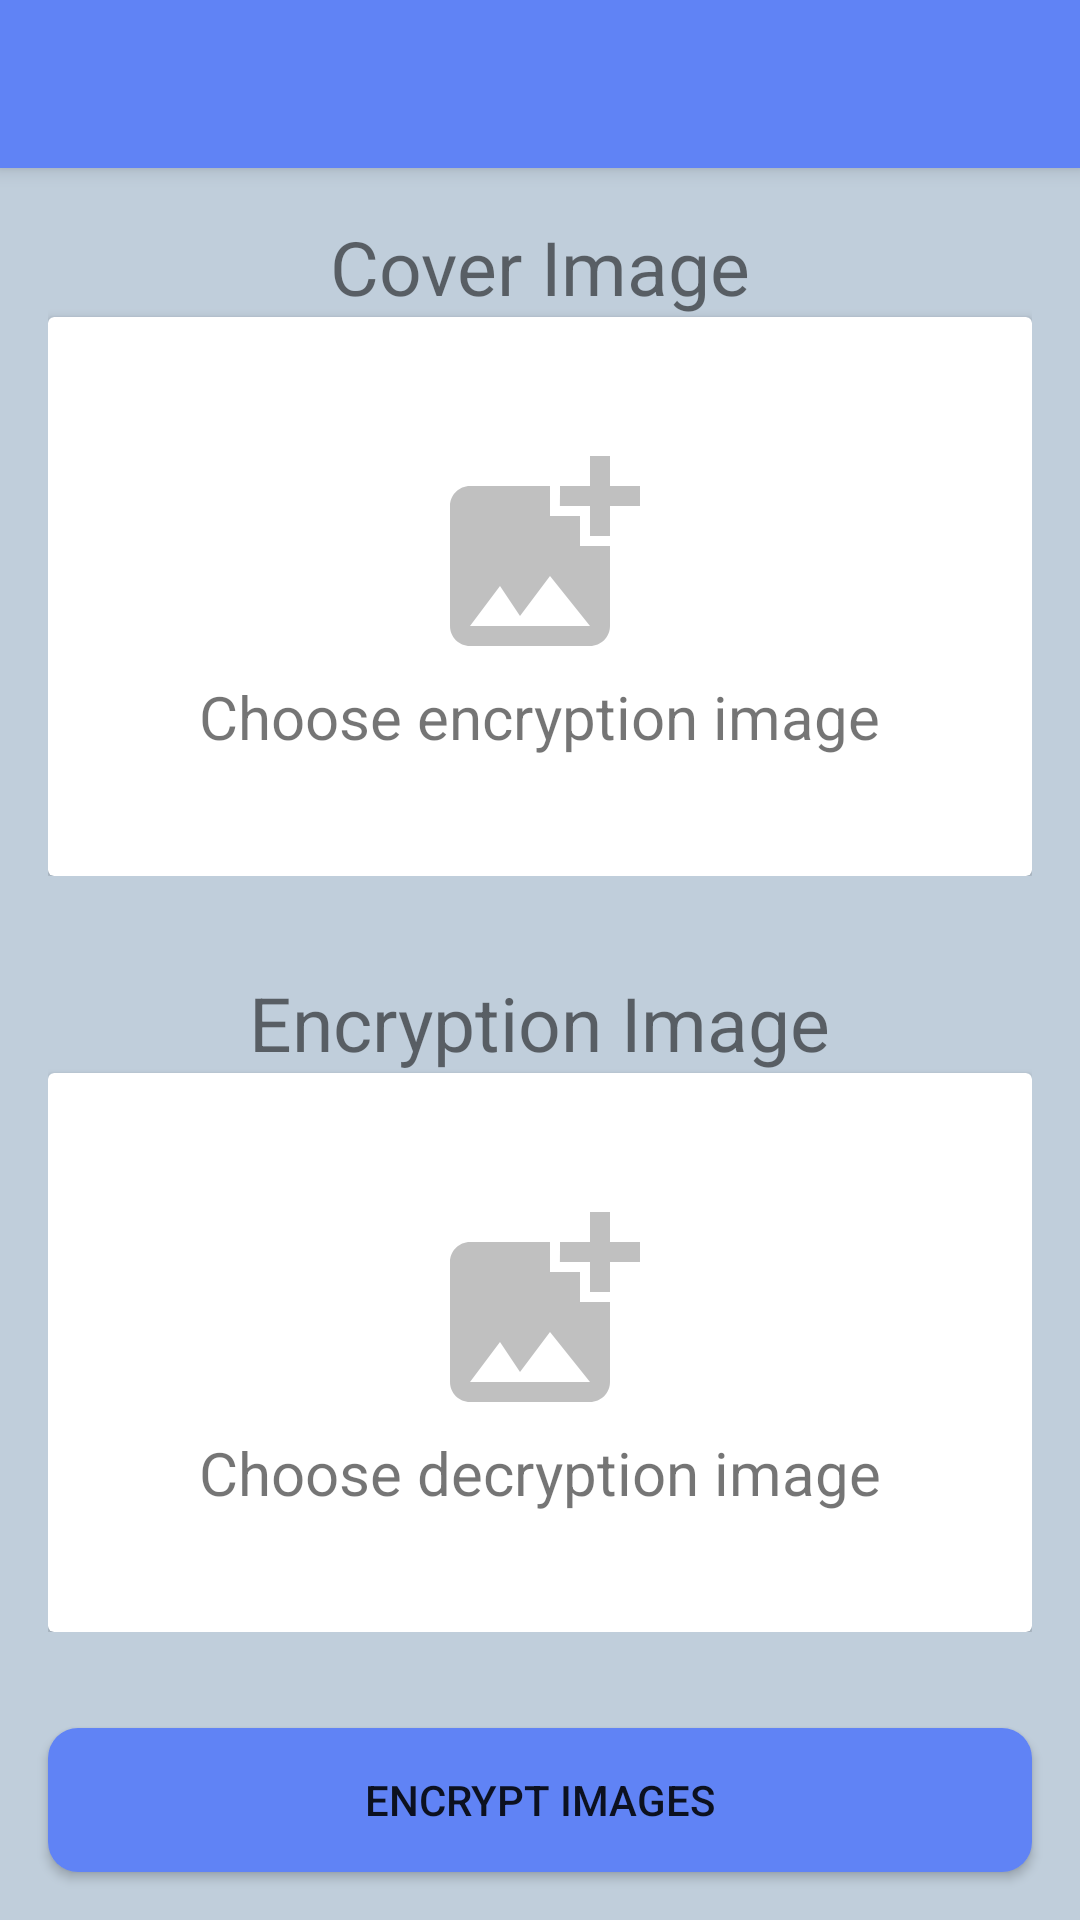

Icons on this 1080px×1920px Android screen, each with the point to tap as point (x, y):
add photo alternate: point (545, 551), point (545, 1307)
